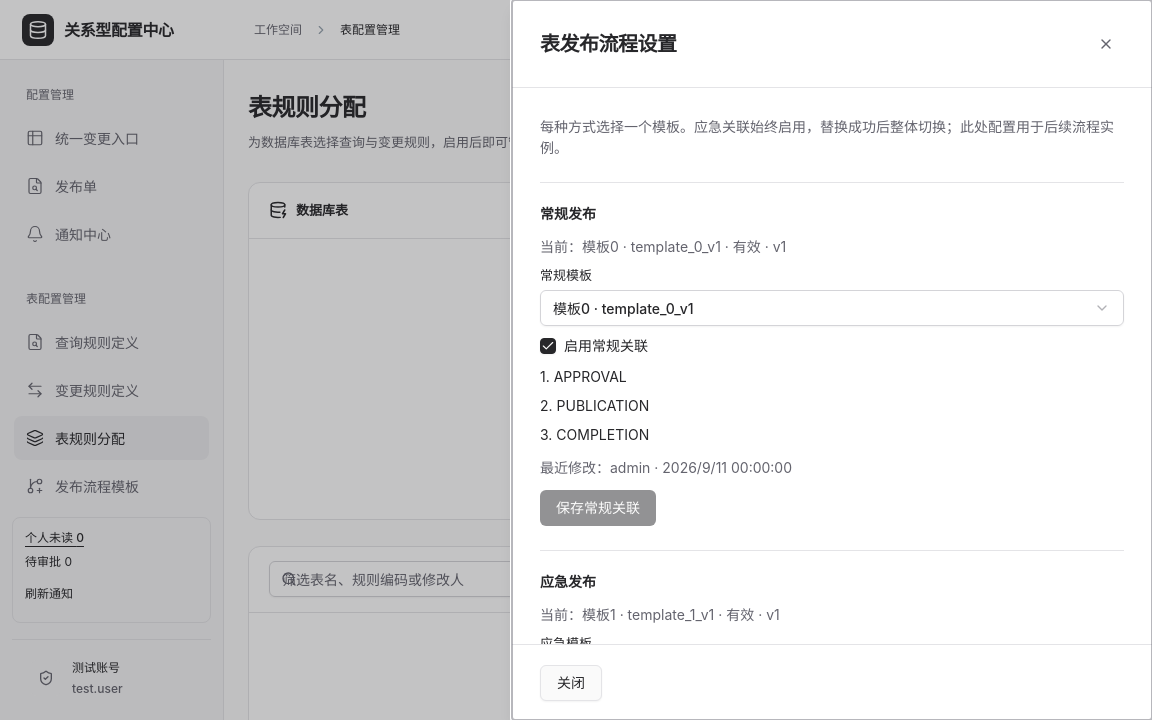
Test: table release template settings › offers only same-type templates and allows standard disable
What coordinates should you click on to do the following:
click the checkbox named "启用常规关联"
I would click on:
 (548, 346)
Its box is [540,338,556,354].
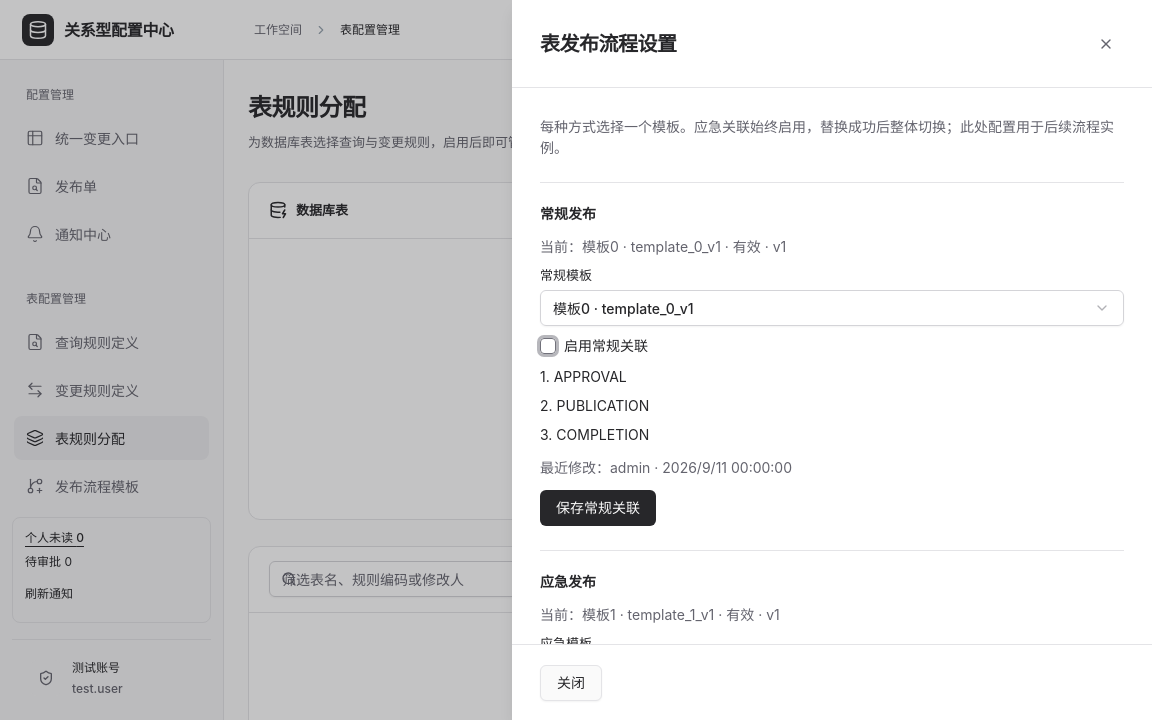
What coordinates should you click on to do the following:
click the button "保存常规关联"
I would click on:
 (598, 508)
Its box is [540,490,656,526].
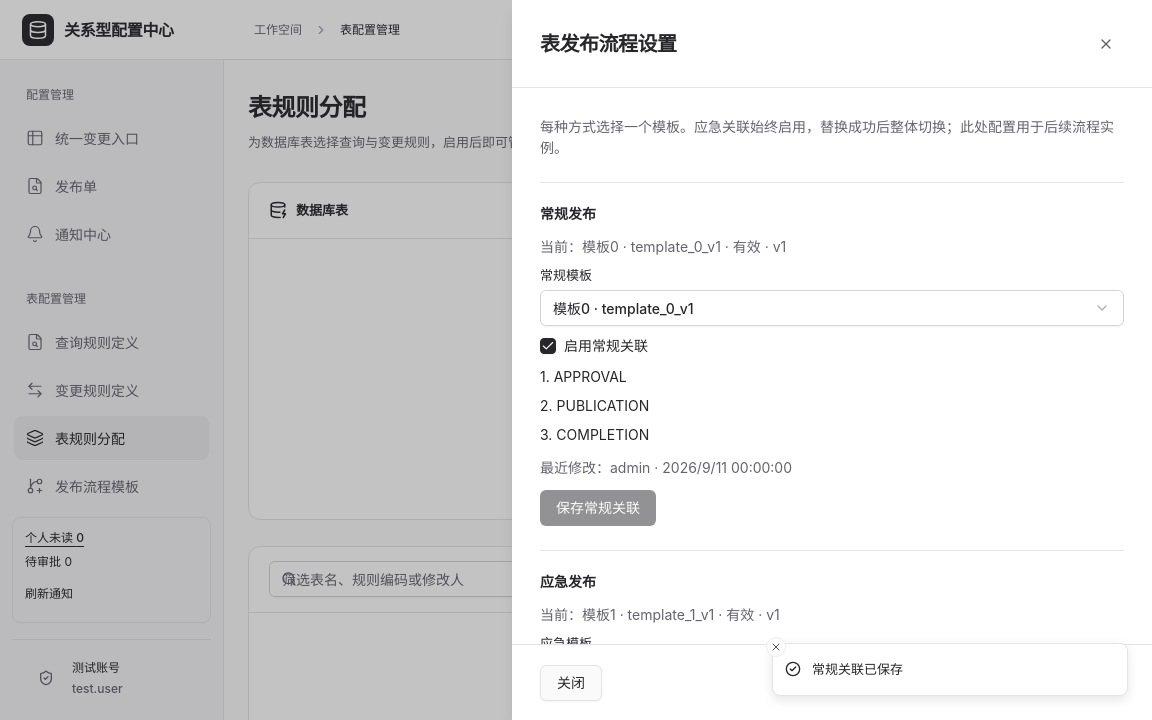
expect the text "常规关联已保存" is shown: met, box [812,660,903,679]
